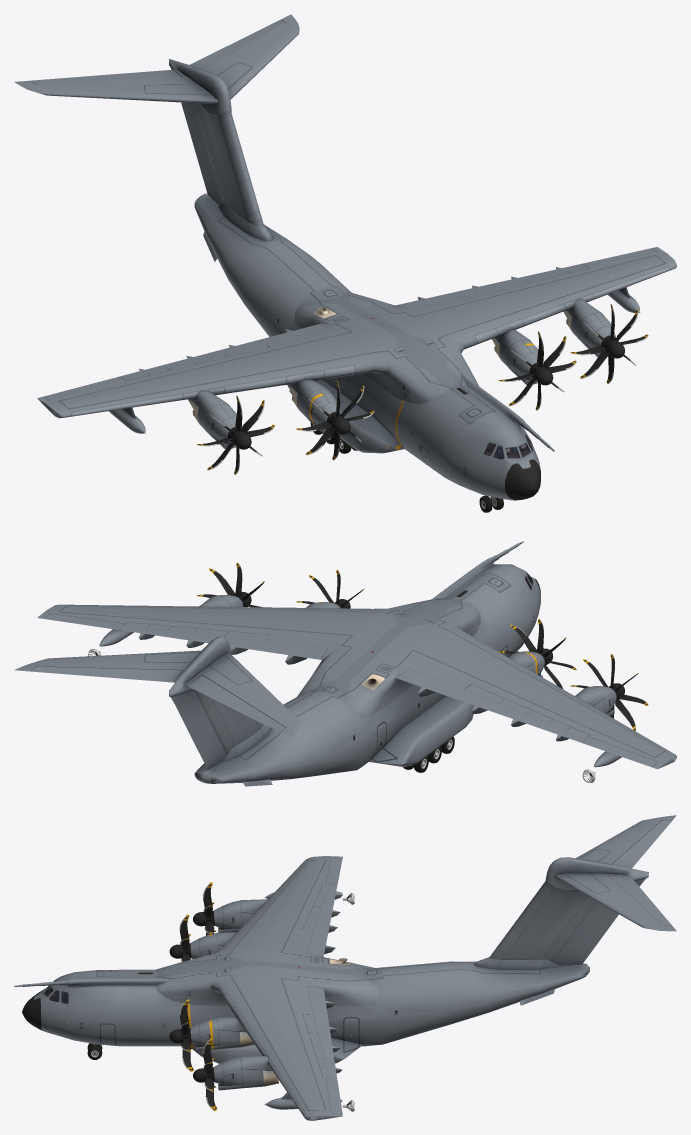
The picture shows the model from 3 angles, top to bottom: view 1: azimuth 30°, elevation 25°; view 2: azimuth 150°, elevation 25°; view 3: azimuth 270°, elevation 25°; orthographic projection. The views are drawn at different scales.
Parts seen in each view (by area): view 1: Body, Tail, WingR, WingL, Engine4, Engine1, Engine3, Engine2, Nose, RudderMesh, FlapsRMesh, FlapsLMesh (+2 smaller); view 2: Body, WingR, Tail, WingL, FlapsRMesh, FlapsLMesh, RudderMesh, ElevatorLMesh, ElevatorRMesh, SpoilerRMesh, SpoilerLMesh, Engine4 (+4 smaller); view 3: Body, Tail, WingL, WingR, RudderMesh, Engine1, Engine2, FlapsLMesh, Engine4, FlapsRMesh, ElevatorRMesh, ElevatorLMesh (+4 smaller).
Part boxes in pixels (x1,y1,x2,y2): Body: (194, 193, 554, 500); Tail: (14, 14, 299, 241); WingR: (37, 323, 388, 418); WingL: (395, 247, 676, 353); Engine4: (188, 391, 242, 448); Engine1: (563, 298, 616, 357); Engine3: (287, 379, 341, 433); Engine2: (492, 329, 543, 384); Nose: (505, 459, 540, 500); RudderMesh: (181, 102, 221, 205); FlapsRMesh: (119, 323, 326, 378); FlapsLMesh: (397, 263, 585, 308); Body: (194, 541, 540, 786); WingR: (395, 624, 676, 769); Tail: (14, 636, 299, 762); WingL: (37, 604, 386, 659); FlapsRMesh: (396, 668, 585, 742); FlapsLMesh: (119, 626, 327, 664); RudderMesh: (175, 690, 226, 769); ElevatorLMesh: (31, 666, 182, 682); ElevatorRMesh: (187, 675, 285, 732); SpoilerRMesh: (464, 684, 589, 738); SpoilerLMesh: (123, 622, 269, 641); Engine4: (575, 686, 616, 716); Body: (14, 950, 589, 1063); Tail: (474, 815, 676, 970); WingL: (210, 977, 342, 1120); WingR: (213, 856, 342, 956); RudderMesh: (553, 902, 618, 965); Engine1: (214, 1055, 278, 1090); Engine2: (190, 1017, 254, 1051); FlapsLMesh: (307, 986, 342, 1079); Engine4: (214, 899, 268, 932); FlapsRMesh: (307, 884, 342, 956); ElevatorRMesh: (612, 820, 671, 868); ElevatorLMesh: (608, 875, 671, 925).
Size of the model in its own units: 42.44 by 15.13 by 45.67.
Materials: 6 (5 with a texture image).
